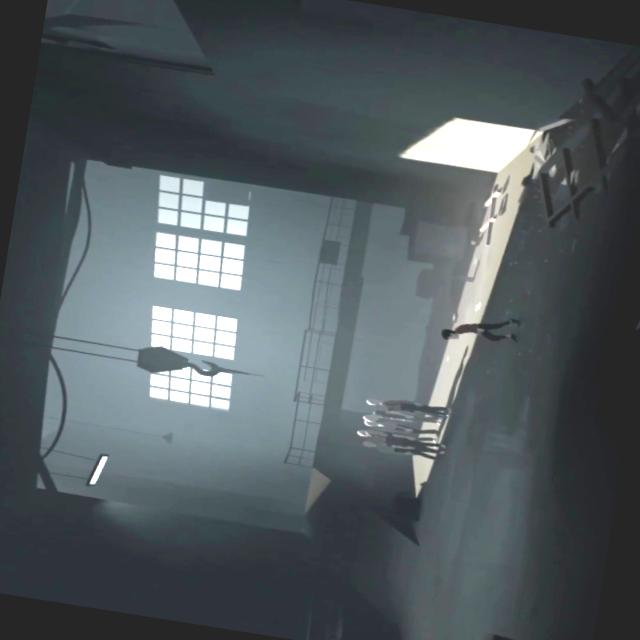boy: (438, 308, 517, 349)
zombie: (374, 396, 452, 422), (368, 430, 446, 456), (361, 408, 438, 432), (361, 441, 437, 461), (361, 420, 440, 438), (354, 429, 370, 439), (364, 398, 376, 407)
